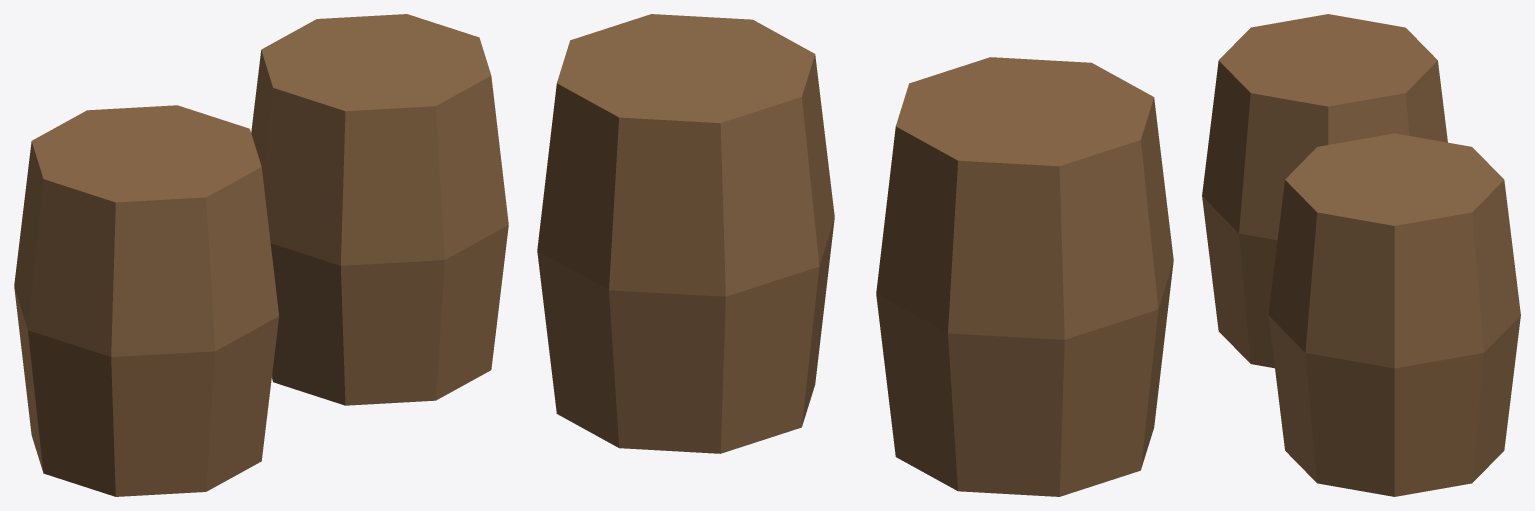
The model's file is prop_barrels.glb.
3 renders of one model, left to right at view 1: azimuth 30°, elevation 25°; view 2: azimuth 150°, elevation 25°; view 3: azimuth 270°, elevation 25°, orthographic. The views are drawn at different scales.
Parts seen in each view (by area): view 1: barrels_oak; view 2: barrels_oak; view 3: barrels_oak.
Boxes of the visible parts, x1,y1,x2,y2 form: barrels_oak: (14,14,508,496); barrels_oak: (537,14,1173,496); barrels_oak: (1202,14,1520,496).
Size of the model in its own units: 1.61 by 0.9 by 0.96.
